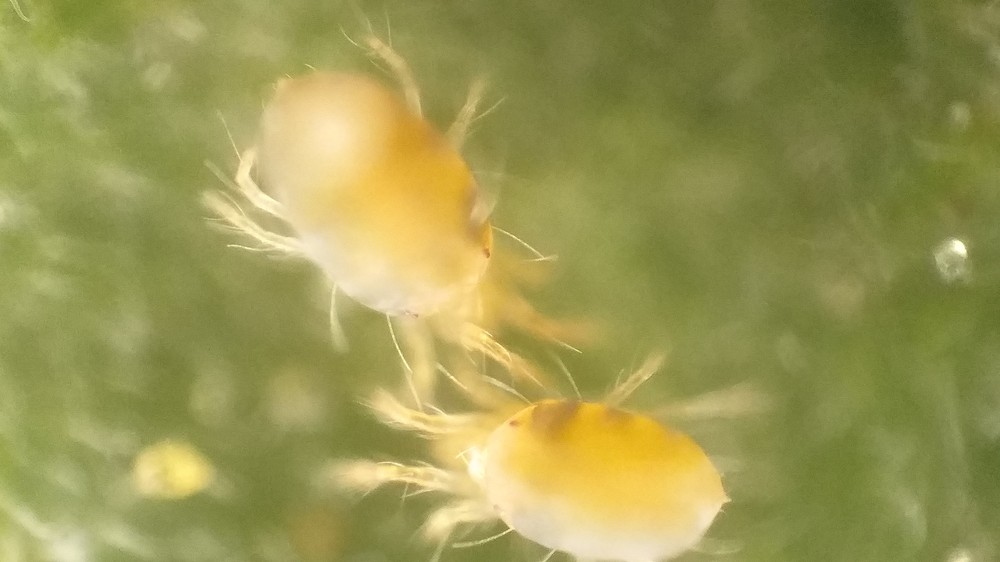Aracnido Rojo: (185, 25, 620, 388), (350, 368, 779, 562)
